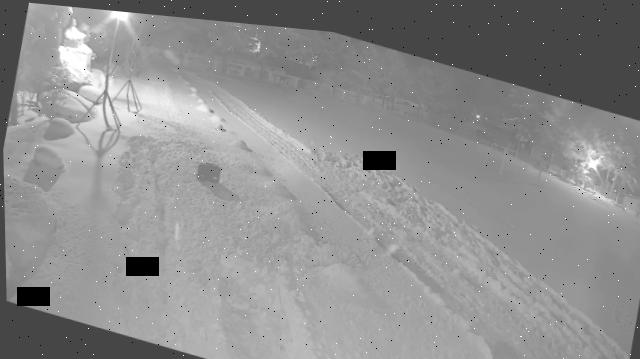bag: (195, 154, 222, 183)
